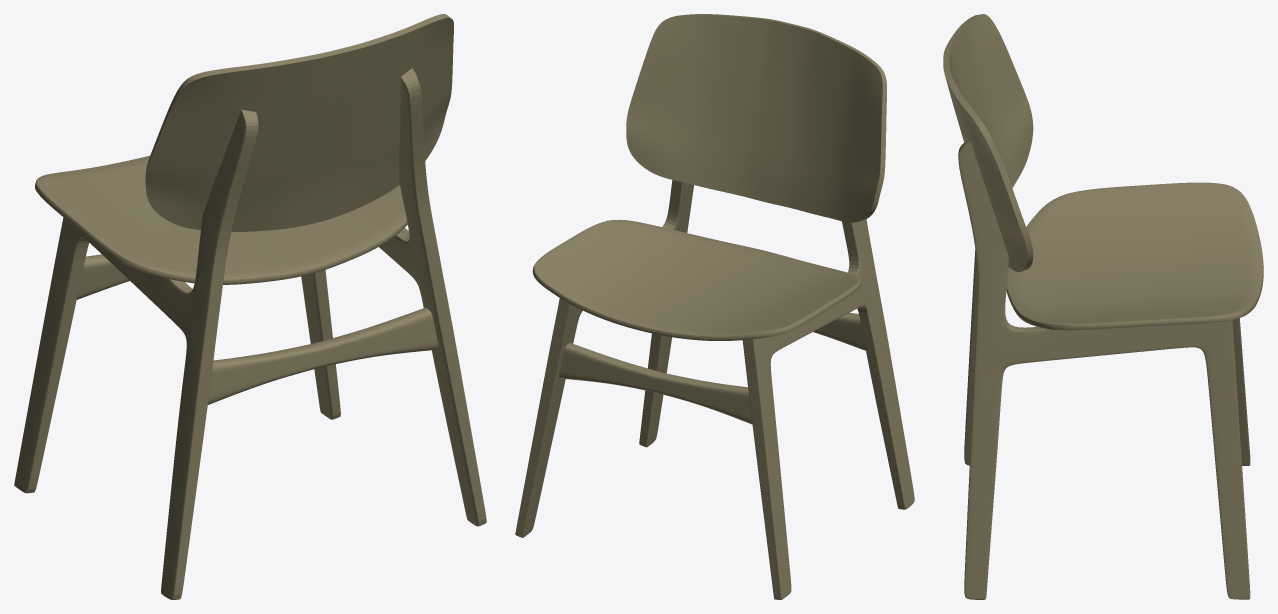
3 renders of one model, left to right at view 1: azimuth 30°, elevation 25°; view 2: azimuth 150°, elevation 25°; view 3: azimuth 270°, elevation 25°, orthographic. The views are drawn at different scales.
Visible parts, largest first — view 1: Chair_model_02; view 2: Chair_model_02; view 3: Chair_model_02.
Part boxes in pixels (x1=…): Chair_model_02: x1=14, y1=14, x2=486, y2=599; Chair_model_02: x1=515, y1=14, x2=914, y2=599; Chair_model_02: x1=943, y1=14, x2=1263, y2=599.
Size of the model in its own units: 0.309 by 0.4887 by 0.3011.
